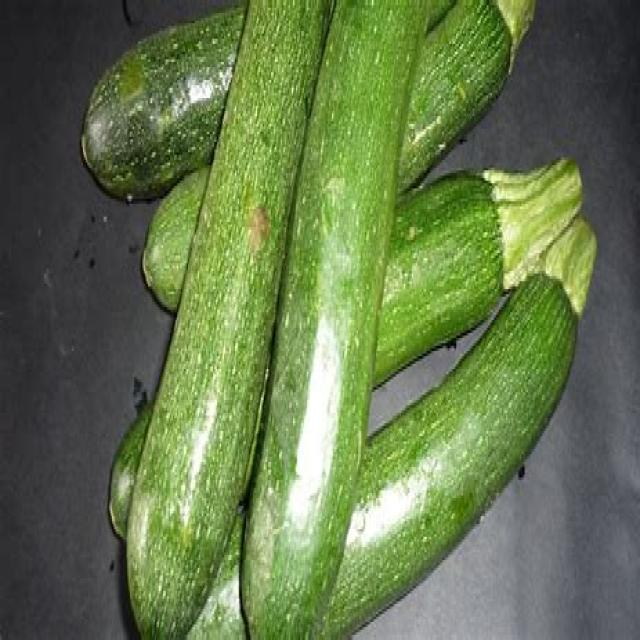Zucchini: (172, 4, 297, 640)
